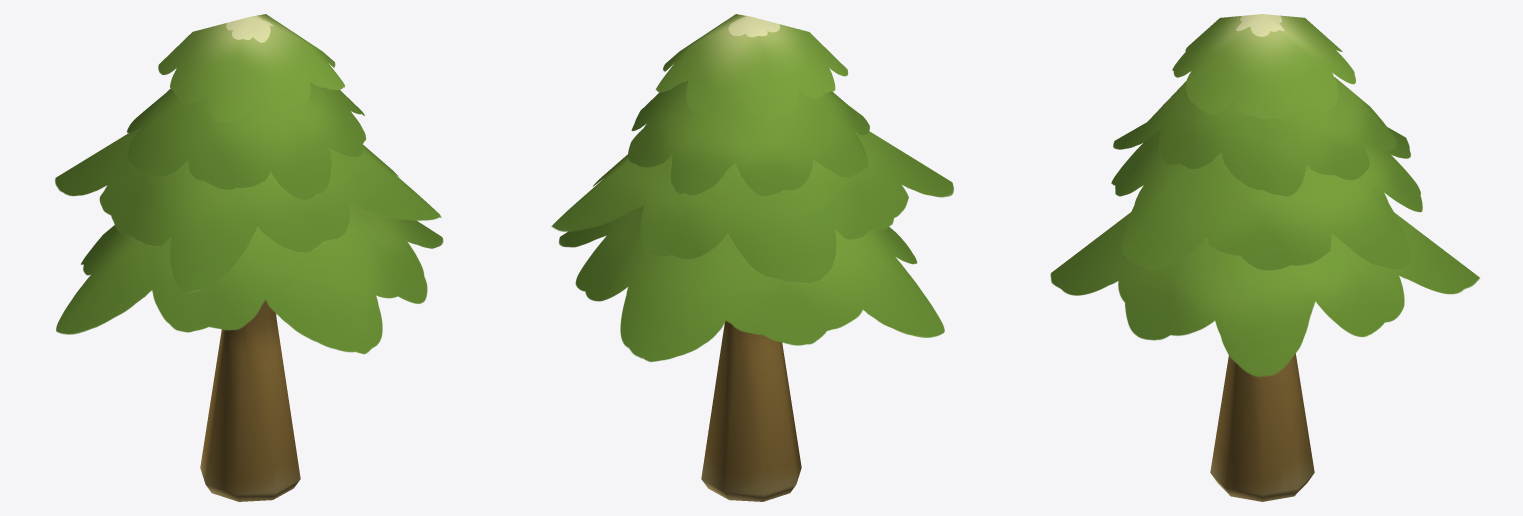
File: Tree2.glb
The picture shows the model from 3 angles, left to right: view 1: azimuth 30°, elevation 25°; view 2: azimuth 150°, elevation 25°; view 3: azimuth 270°, elevation 25°; orthographic projection.
Parts seen in each view (by area): view 1: Plane.008; view 2: Plane.008; view 3: Plane.008.
Part boxes in pixels (x1,y1,x2,y2): Plane.008: [55, 14, 443, 501]; Plane.008: [551, 14, 953, 501]; Plane.008: [1050, 14, 1479, 501].
Bounding box in the file's own units: 5.29 × 5.55 × 5.29.
Materials: 3 (3 with a texture image).
